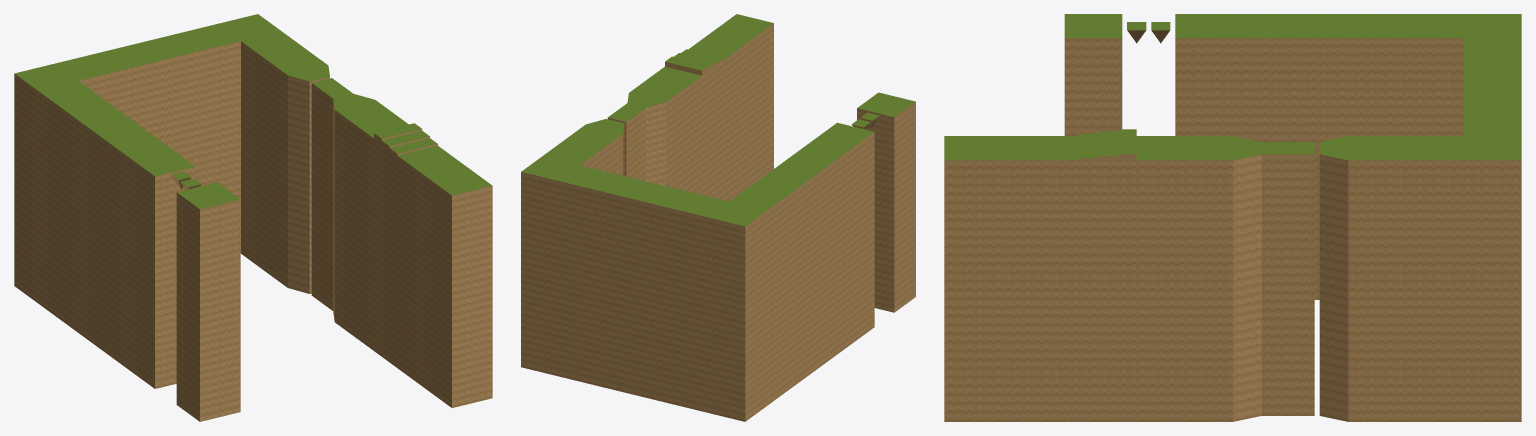
The model's file is firstStageGround.fbx.
3 renders of one model, left to right at view 1: azimuth 30°, elevation 25°; view 2: azimuth 150°, elevation 25°; view 3: azimuth 270°, elevation 25°, orthographic. The views are drawn at different scales.
Visible parts, largest first — view 1: Box002, Box001, Box003, Box004; view 2: Box002, Box001, Box003, Box004; view 3: Box001, Box002, Box003, Box004.
Part boxes in pixels (left/top/right/bottom): Box002: left=14, top=14, right=329, bottom=388; Box001: left=311, top=78, right=492, bottom=407; Box003: left=176, top=182, right=240, bottom=421; Box004: left=374, top=123, right=437, bottom=155; Box002: left=521, top=119, right=874, bottom=421; Box001: left=607, top=14, right=773, bottom=201; Box003: left=857, top=92, right=915, bottom=312; Box004: left=665, top=49, right=723, bottom=75; Box001: left=944, top=136, right=1314, bottom=421; Box002: left=1175, top=14, right=1521, bottom=421; Box003: left=1064, top=14, right=1122, bottom=135; Box004: left=1079, top=129, right=1136, bottom=160.
Bounding box in the file's own units: 14173 × 12106 × 23622.
2 materials, 2 textured.
